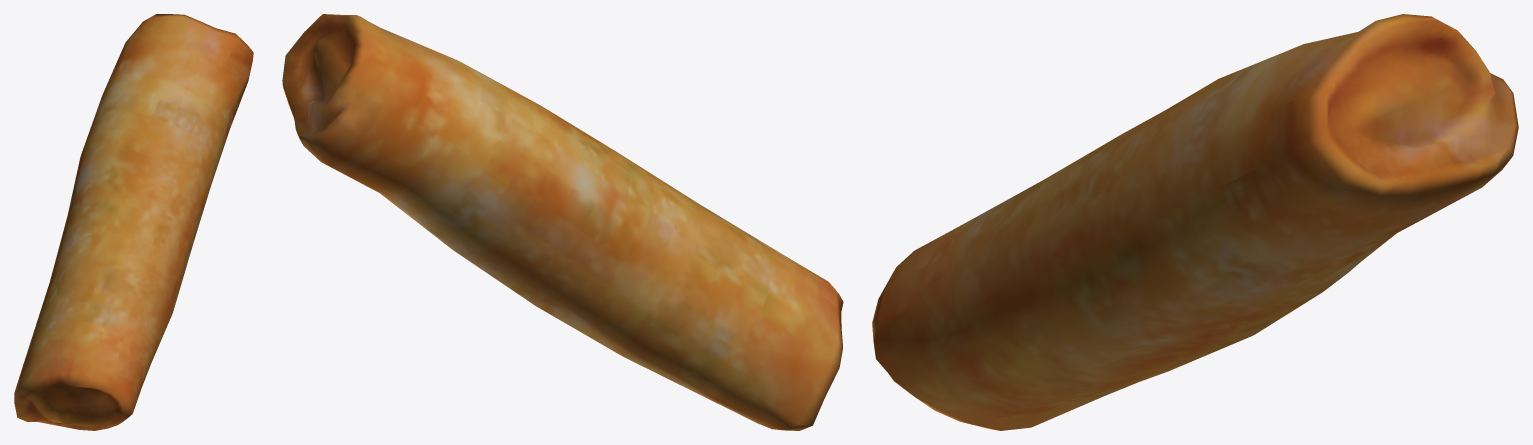
File: ref_bfspringroll.glb
3 views of the same model, side by side, from view 1: azimuth 30°, elevation 25°; view 2: azimuth 150°, elevation 25°; view 3: azimuth 270°, elevation 25° (orthographic). The views are drawn at different scales.
Parts seen in each view (by area): view 1: ref_bfspringroll_part0; view 2: ref_bfspringroll_part0; view 3: ref_bfspringroll_part0.
Boxes of the visible parts, x1,y1,x2,y2 form: ref_bfspringroll_part0: (14,14,253,430); ref_bfspringroll_part0: (282,14,843,430); ref_bfspringroll_part0: (872,14,1518,430).
Bounding box in the file's own units: 1 × 0.916 × 0.9092.
Materials: 1 (1 with a texture image).
